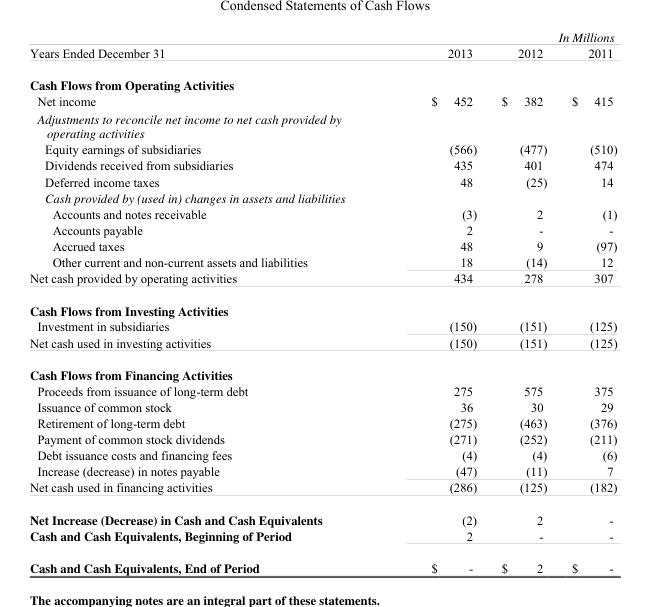table: (28, 28, 616, 576)
table column: (28, 28, 376, 576), (376, 28, 488, 576), (488, 28, 552, 576), (552, 28, 616, 576)
table column header: (28, 28, 616, 67)
table projected row header: (28, 109, 616, 141), (28, 67, 616, 93), (28, 293, 616, 319), (28, 357, 616, 383), (28, 188, 616, 205)
table row: (28, 28, 616, 67), (28, 109, 616, 141), (28, 67, 616, 93), (28, 293, 616, 319), (28, 357, 616, 383), (28, 502, 616, 527), (28, 551, 616, 576), (28, 269, 616, 293), (28, 527, 616, 551), (28, 334, 616, 357), (28, 479, 616, 502), (28, 188, 616, 205), (28, 446, 616, 463), (28, 93, 616, 109), (28, 141, 616, 157), (28, 157, 616, 173), (28, 205, 616, 221), (28, 221, 616, 237), (28, 237, 616, 253), (28, 253, 616, 269), (28, 398, 616, 414), (28, 414, 616, 430), (28, 430, 616, 446), (28, 463, 616, 479), (28, 173, 616, 188), (28, 319, 616, 334), (28, 383, 616, 398)
